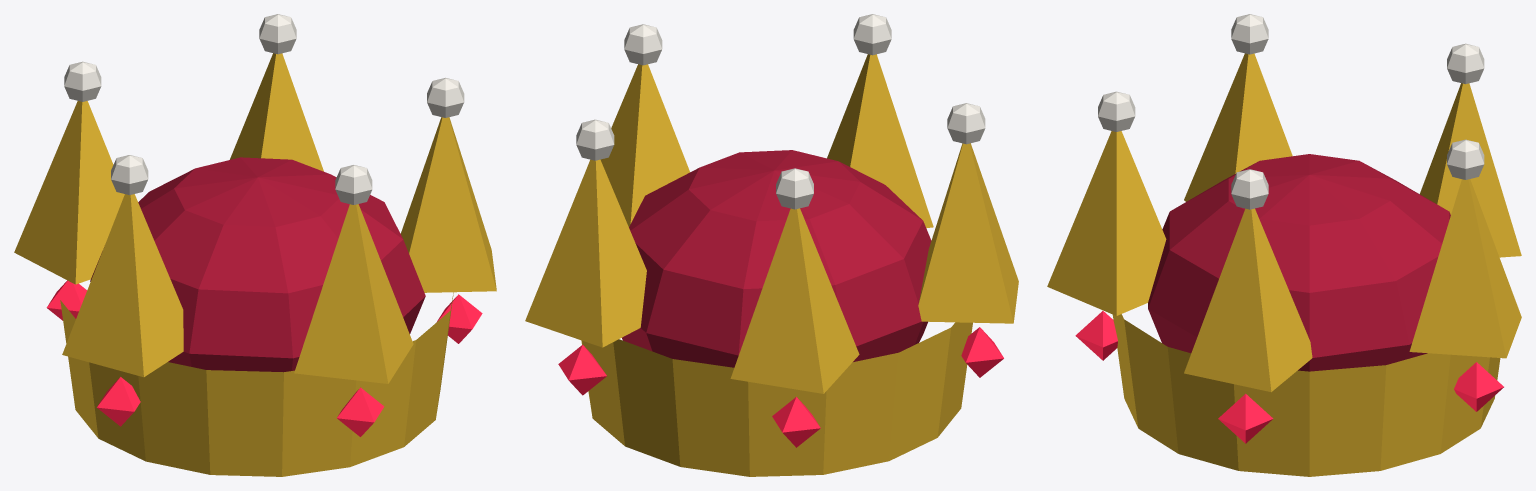
File: parade_crown.glb
The picture shows the model from 3 angles, left to right: view 1: azimuth 30°, elevation 25°; view 2: azimuth 150°, elevation 25°; view 3: azimuth 270°, elevation 25°; orthographic projection. The views are drawn at different scales.
Visible parts, largest first — view 1: band_crown_gold, velvet_crown_velvet, gems_crown_pearl, gems_crown_gem; view 2: band_crown_gold, velvet_crown_velvet, gems_crown_pearl, gems_crown_gem; view 3: band_crown_gold, velvet_crown_velvet, gems_crown_pearl, gems_crown_gem.
Boxes of the visible parts, left/top/right/bottom form: band_crown_gold: left=14, top=53, right=496, bottom=476; velvet_crown_velvet: left=90, top=157, right=425, bottom=372; gems_crown_pearl: left=64, top=14, right=464, bottom=204; gems_crown_gem: left=46, top=280, right=482, bottom=436; band_crown_gold: left=525, top=54, right=1018, bottom=476; velvet_crown_velvet: left=622, top=150, right=931, bottom=367; gems_crown_pearl: left=576, top=14, right=985, bottom=209; gems_crown_gem: left=558, top=327, right=1003, bottom=447; band_crown_gold: left=1047, top=53, right=1521, bottom=476; velvet_crown_velvet: left=1148, top=154, right=1450, bottom=371; gems_crown_pearl: left=1098, top=14, right=1484, bottom=209; gems_crown_gem: left=1075, top=311, right=1503, bottom=443.
Bounding box in the file's own units: 0.3234 × 0.219 × 0.3075.
